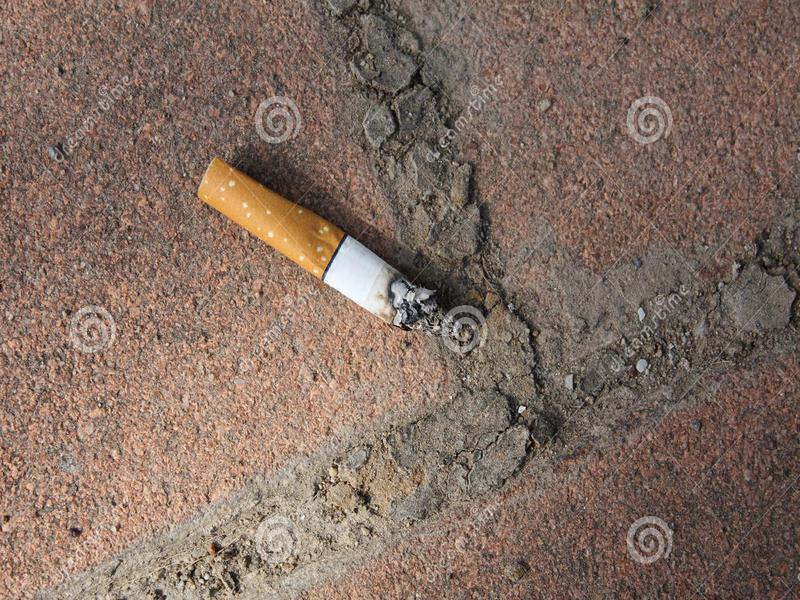burned_cigarette: (188, 143, 456, 344)
